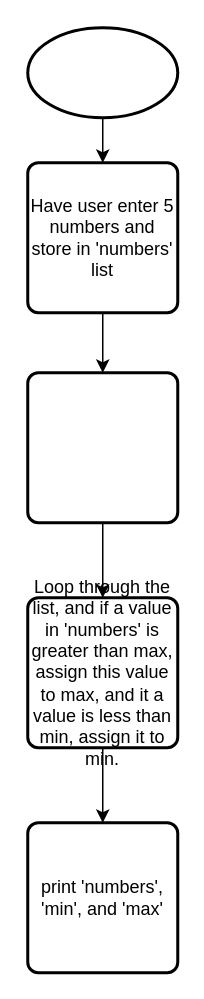
Image size: 204x999. Some labels were removed from this diagram. Each missing label, with the centre of its shape:
"define max and min as the first value in 'numbers'" belongs at [102,447].
"Start" belongs at [102,72].
